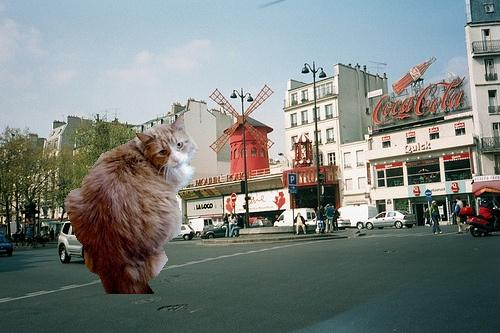tampered: (65, 114, 199, 294)
